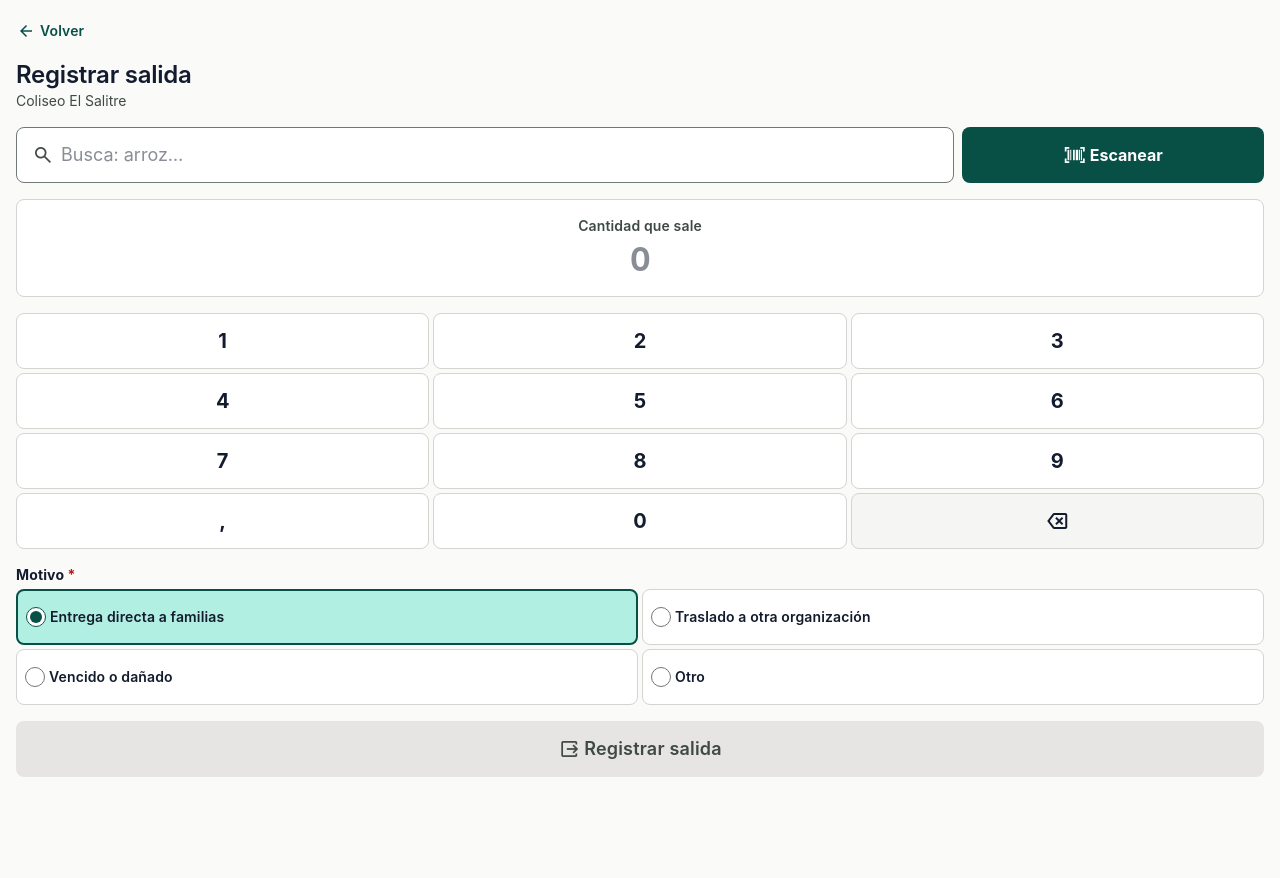
Test: C5 Salida › si la cantidad pasa del saldo avisa cuánto hay y no deja registrar
This screenshot has width=1280, height=878.
Type "panal" into the search field named "Categoría".
click(485, 155); type("panal")  # box x1=16 y1=127 x2=954 y2=183
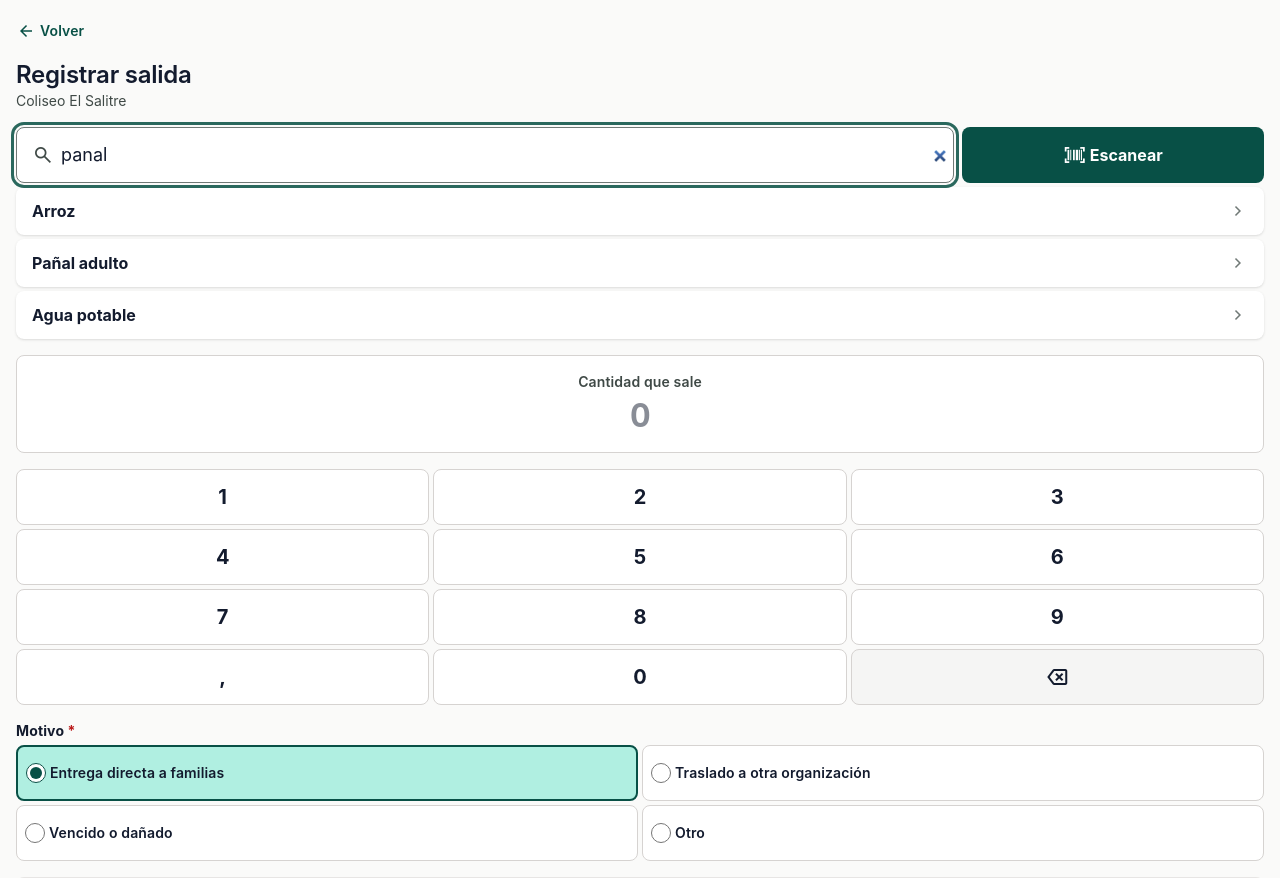
Click the button "Pañal adulto".
click(80, 263)  # box x1=16 y1=239 x2=1264 y2=287
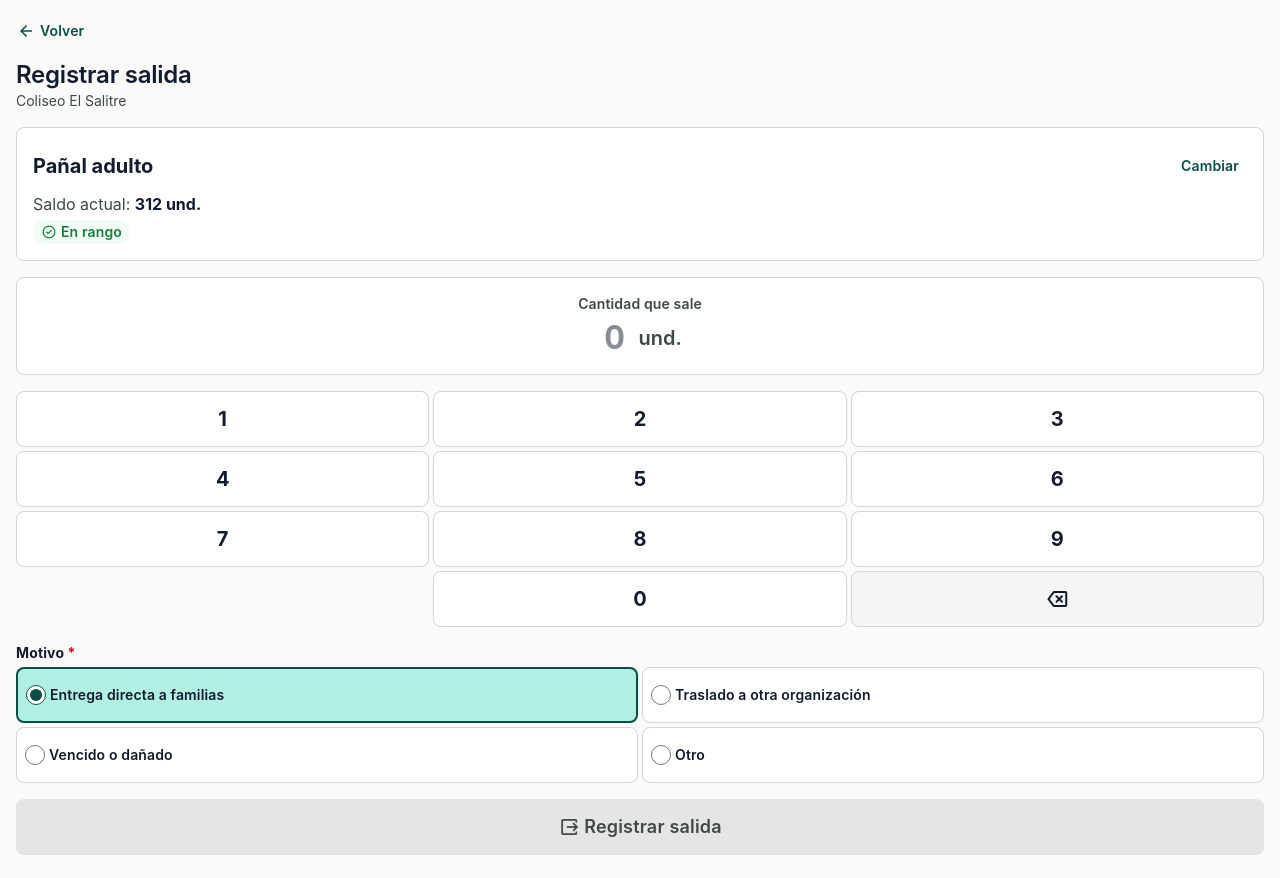
Click the button "4".
click(223, 479)  # box x1=16 y1=451 x2=429 y2=507
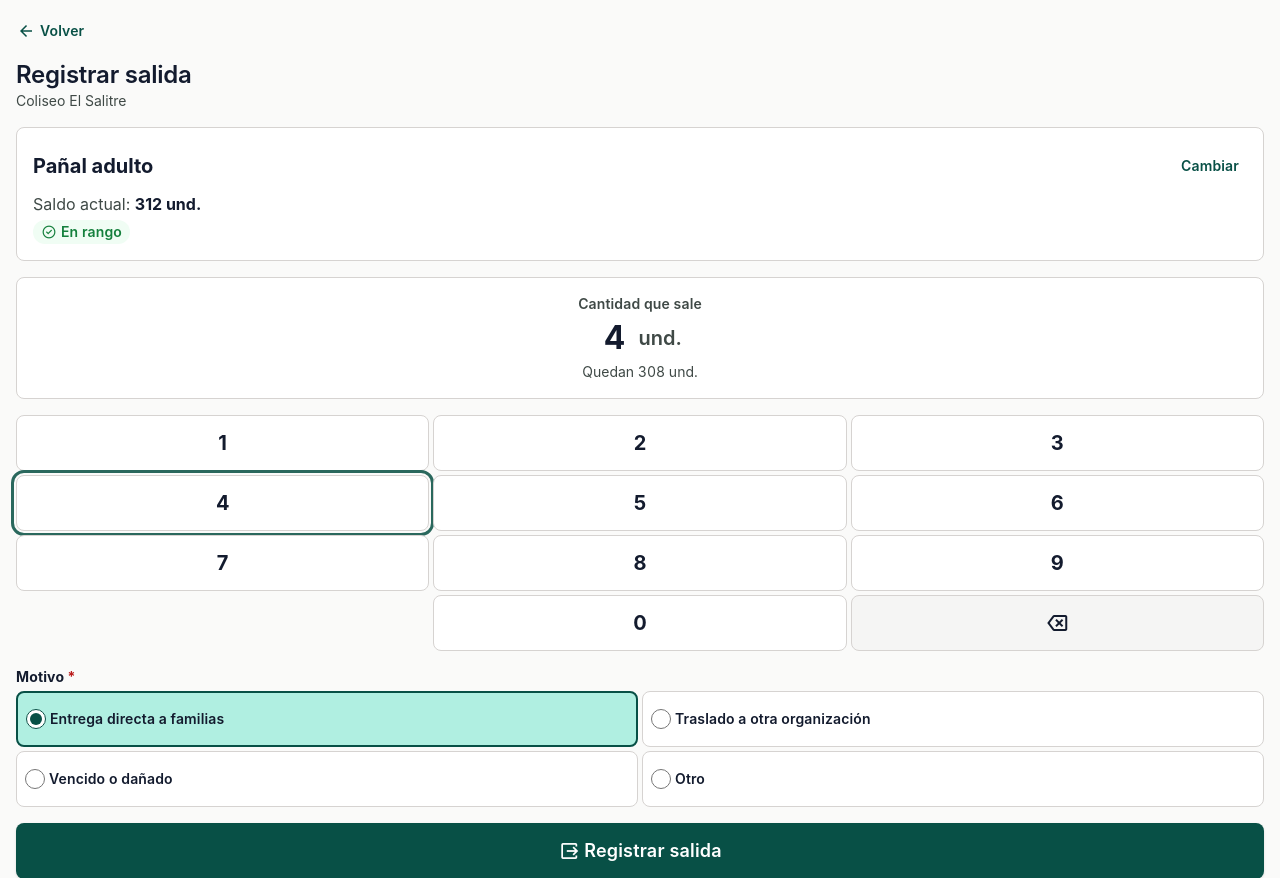
Click the button "0".
click(640, 623)  # box x1=433 y1=595 x2=847 y2=651
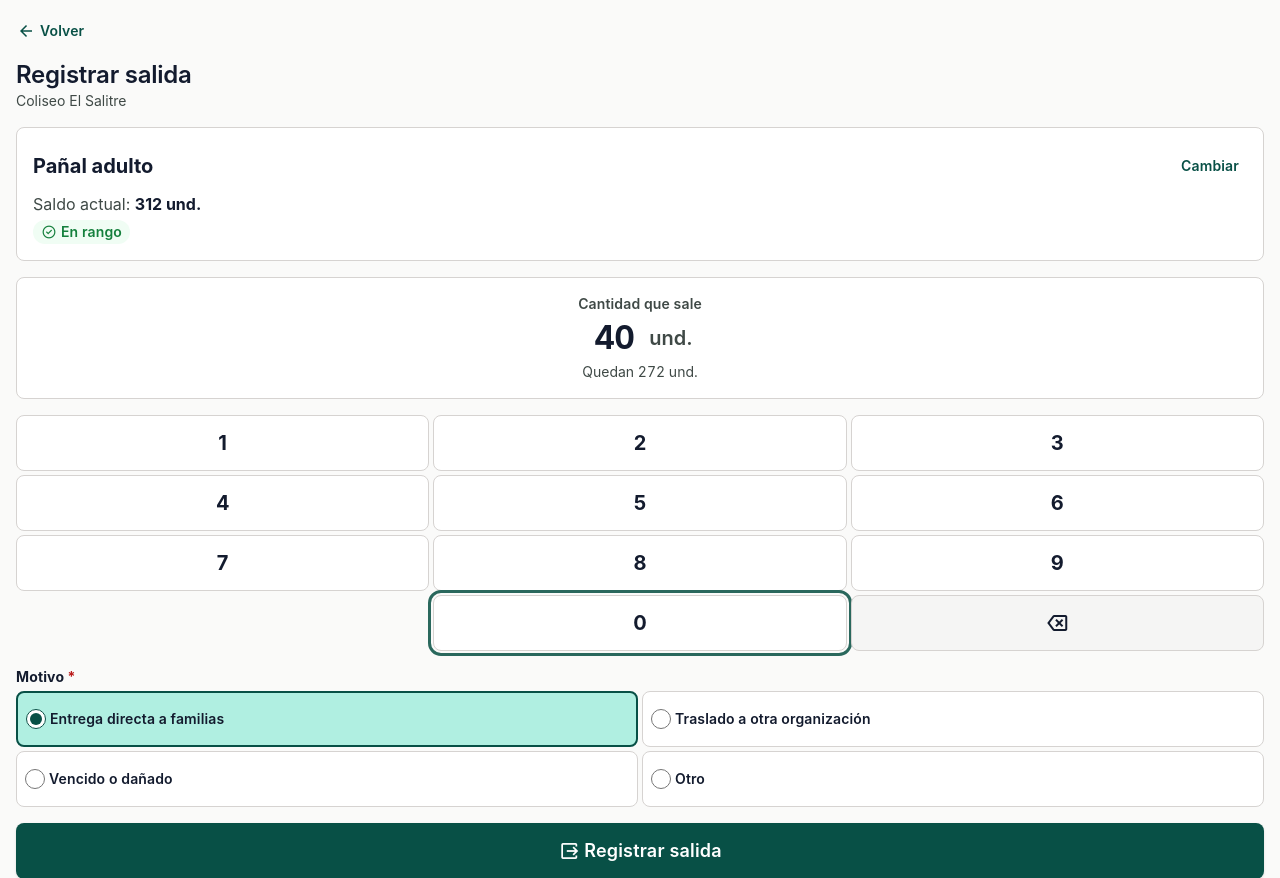
Click the button "0".
click(640, 623)  # box x1=433 y1=595 x2=847 y2=651
(page scrolled)
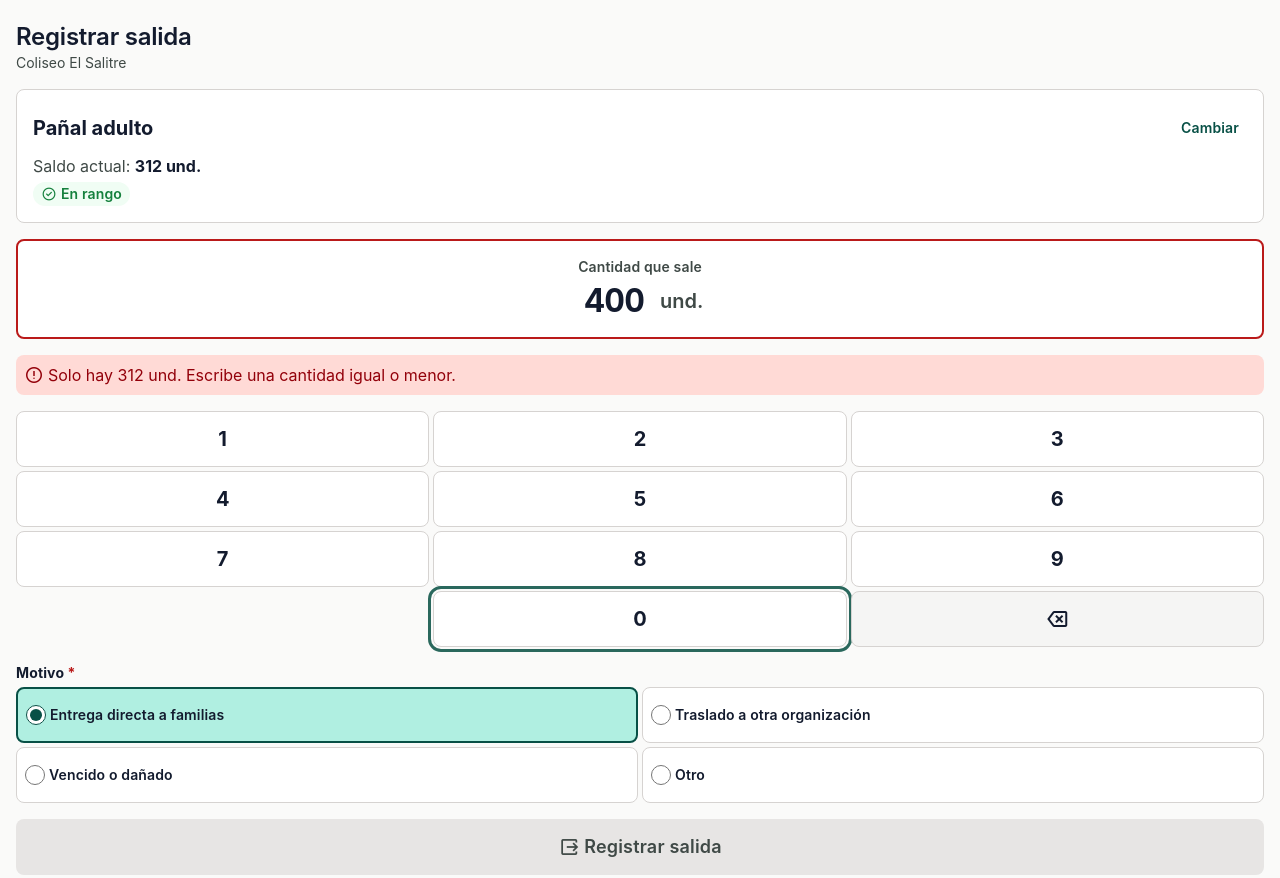
Check: the message reads "Solo hay 312 und. Escribe una cantidad igual o menor.", box x1=16 y1=355 x2=1264 y2=395
Check: the button "Registrar salida" is disabled, box x1=16 y1=819 x2=1264 y2=875
